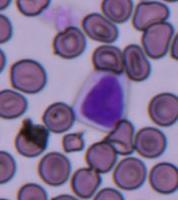L: (72, 70, 130, 130)
